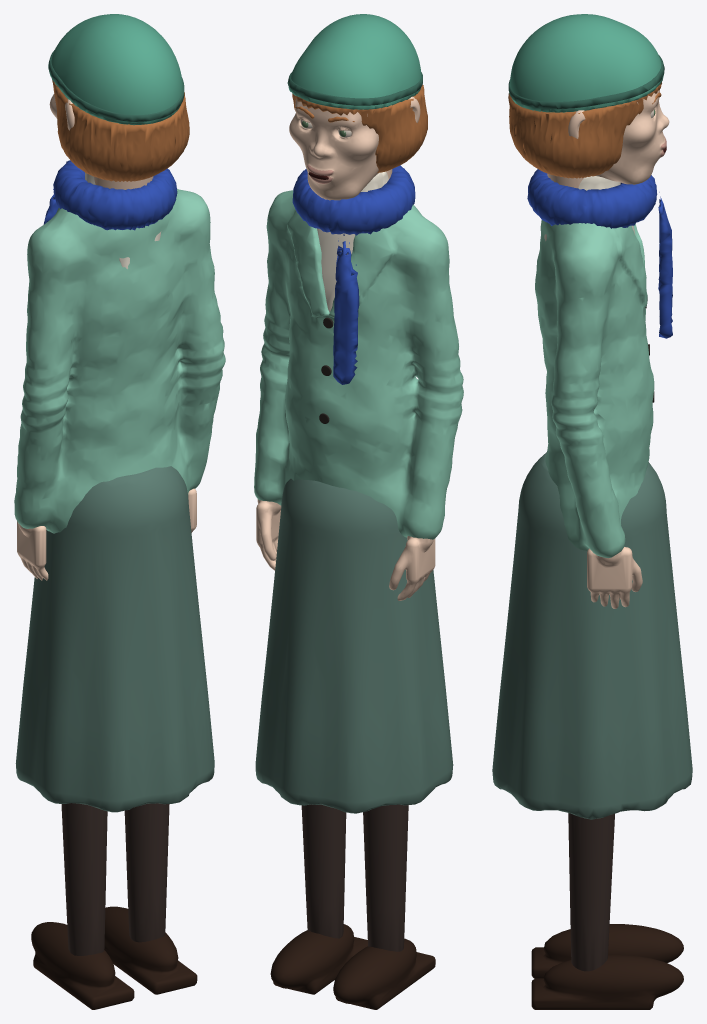
Rendered from cecily.fbx.
The picture shows the model from 3 angles, left to right: view 1: azimuth 30°, elevation 25°; view 2: azimuth 150°, elevation 25°; view 3: azimuth 270°, elevation 25°; orthographic projection.
Visible parts, largest first — view 1: Body, Hat, Head, HandR; view 2: Body, Hat, Head, HandR, HandL; view 3: Body, Hat, Head, HandL.
Part boxes in pixels (x1,y1,x2,y2): Body: (14, 160, 225, 1009); Hat: (48, 14, 184, 125); Head: (49, 80, 189, 189); HandR: (17, 521, 48, 580); Body: (254, 165, 463, 1009); Hat: (287, 14, 422, 109); Head: (289, 85, 427, 200); HandR: (389, 536, 435, 600); HandL: (256, 499, 281, 570); Body: (492, 169, 692, 1009); Hat: (508, 14, 664, 112); Head: (508, 82, 669, 188); HandL: (587, 547, 642, 608).
Bounding box in the file's own units: 0.3767 × 1.75 × 0.3285.
